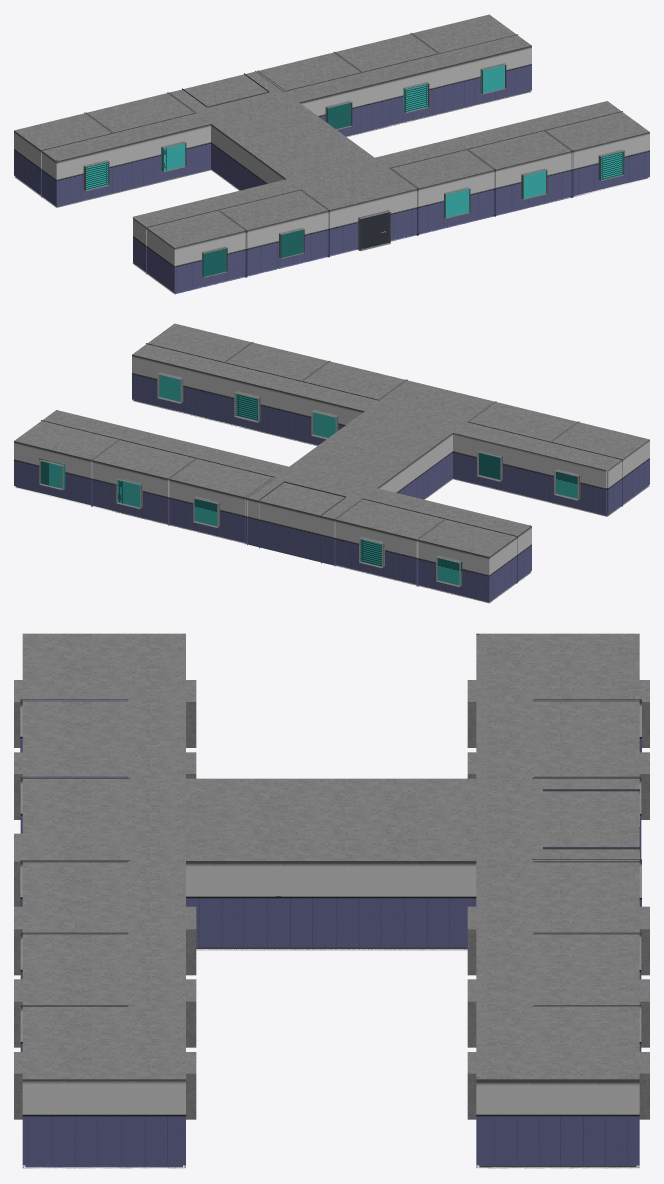
File: snow-base-lab-1floor.glb
The picture shows the model from 3 angles, top to bottom: view 1: azimuth 30°, elevation 25°; view 2: azimuth 150°, elevation 25°; view 3: azimuth 270°, elevation 25°; orthographic projection. The views are drawn at different scales.
Visible parts, largest first — view 1: walls, windows, inside-walls, door; view 2: walls, windows, inside-walls; view 3: walls, inside-walls.
Part boxes in pixels (x1,y1,x2,y2): walls: [14, 14, 649, 294]; windows: [86, 63, 624, 277]; inside-walls: [41, 33, 622, 277]; door: [358, 210, 388, 250]; walls: [14, 323, 649, 603]; windows: [39, 374, 579, 586]; inside-walls: [41, 342, 622, 586]; walls: [14, 633, 649, 1168]; inside-walls: [20, 699, 641, 1051].
Size of what is drawn, in the model's own units: 20.76 by 2.04 by 12.5.
Materials: 5 (5 with a texture image).
